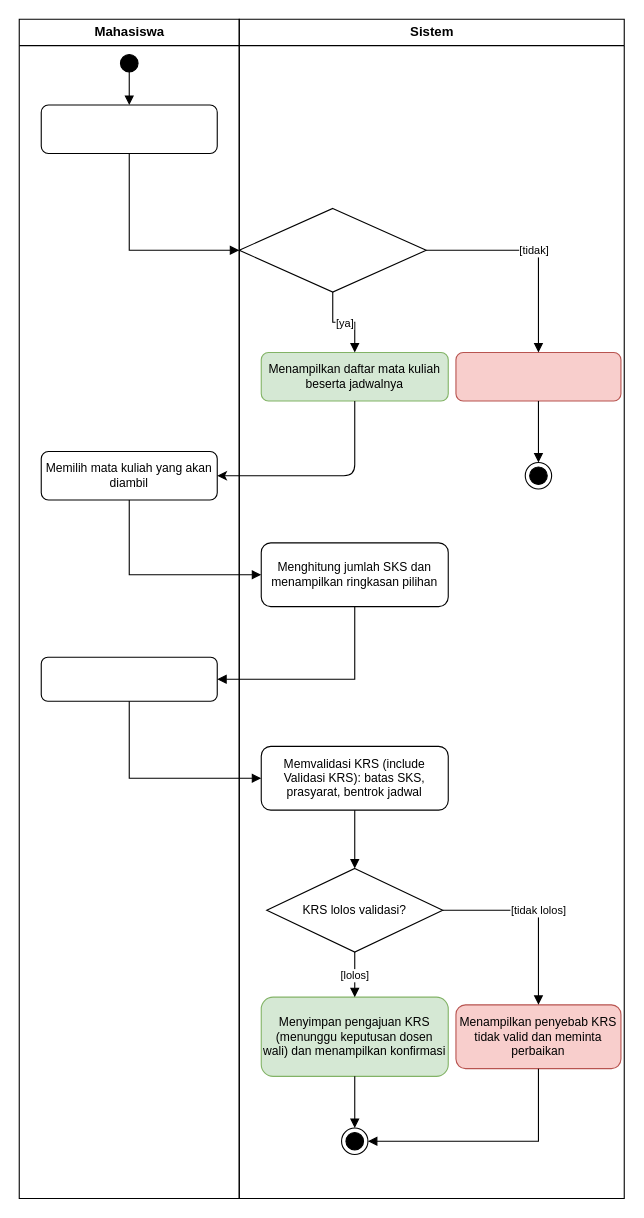
This 644x1218 diagram has some shape labels left out. Each missing label, with the centre of its shape:
Membuka fungsi Ajukan KRS: [128,128]
Menampilkan pesan periode KRS tidak dibuka: [538,376]
Mengajukan KRS: [128,678]
Periode pengajuan KRS dibuka?: [332,249]
